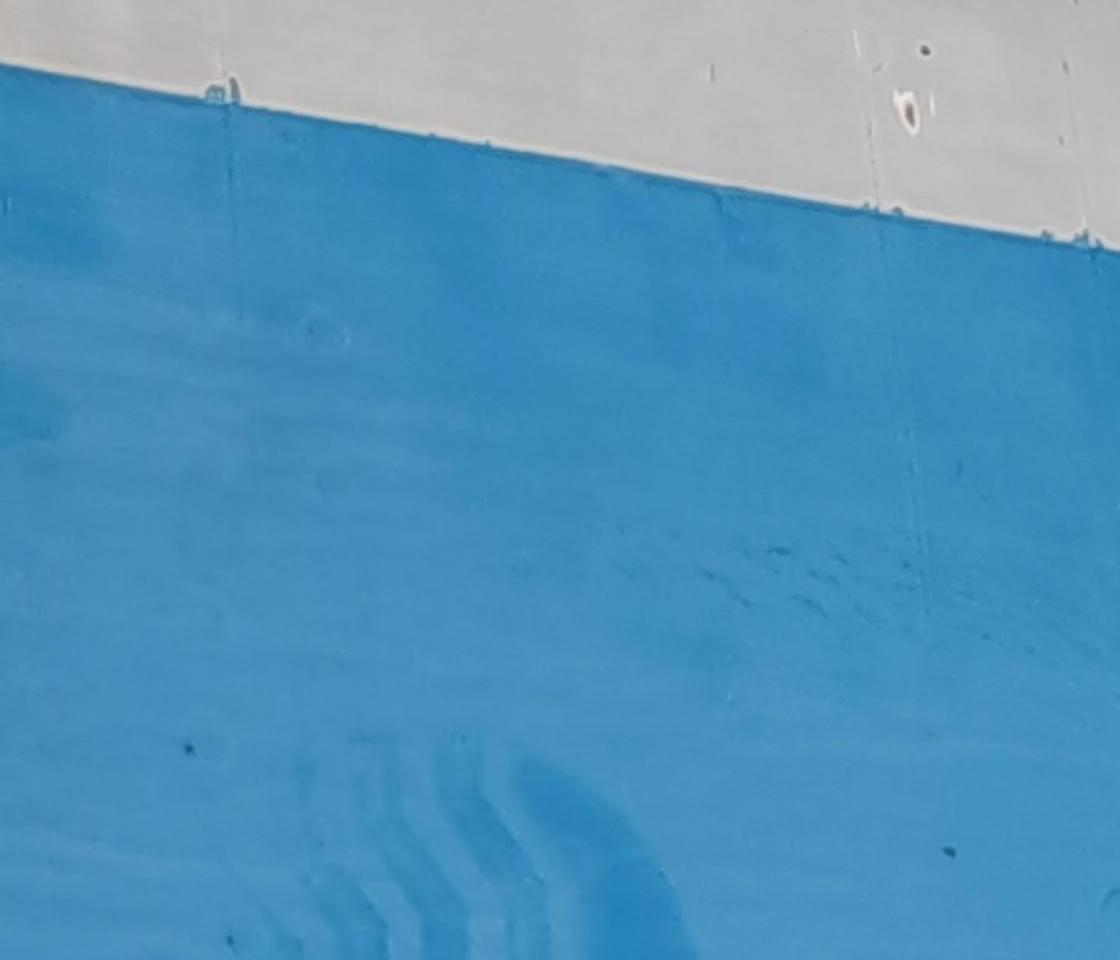paint_peel: (869, 75, 928, 142)
